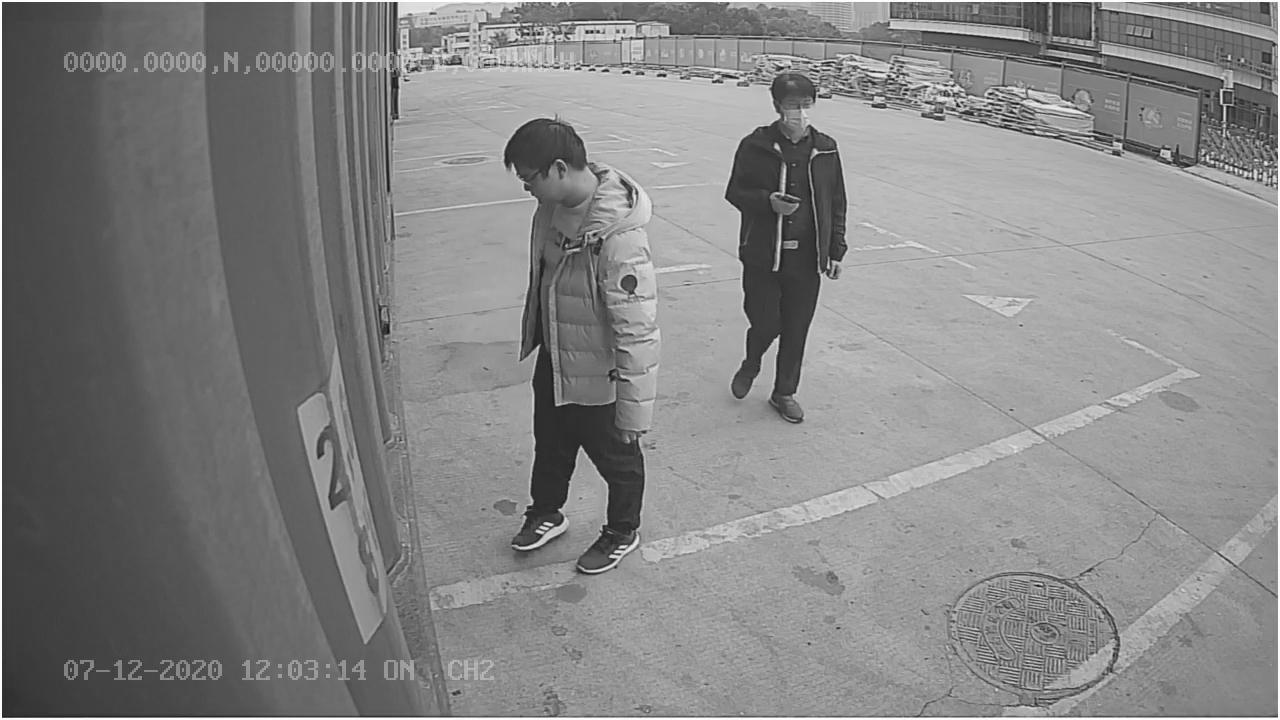person: (497, 111, 666, 574), (725, 67, 845, 426)
